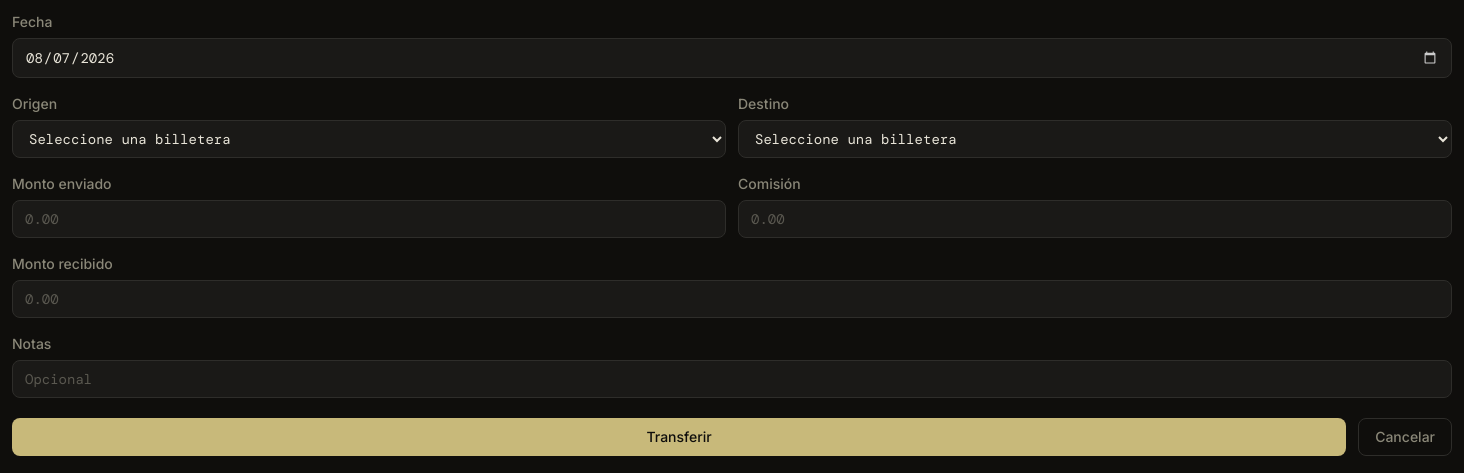
Scenario: TransferForm › pre-fills monto recibido as enviado minus comisión for stable/USD pairs
The image size is (1464, 473).
Select "Binance" in the dropdown labelled "Origen" at (369, 139), box left=12, top=120, right=726, bottom=158
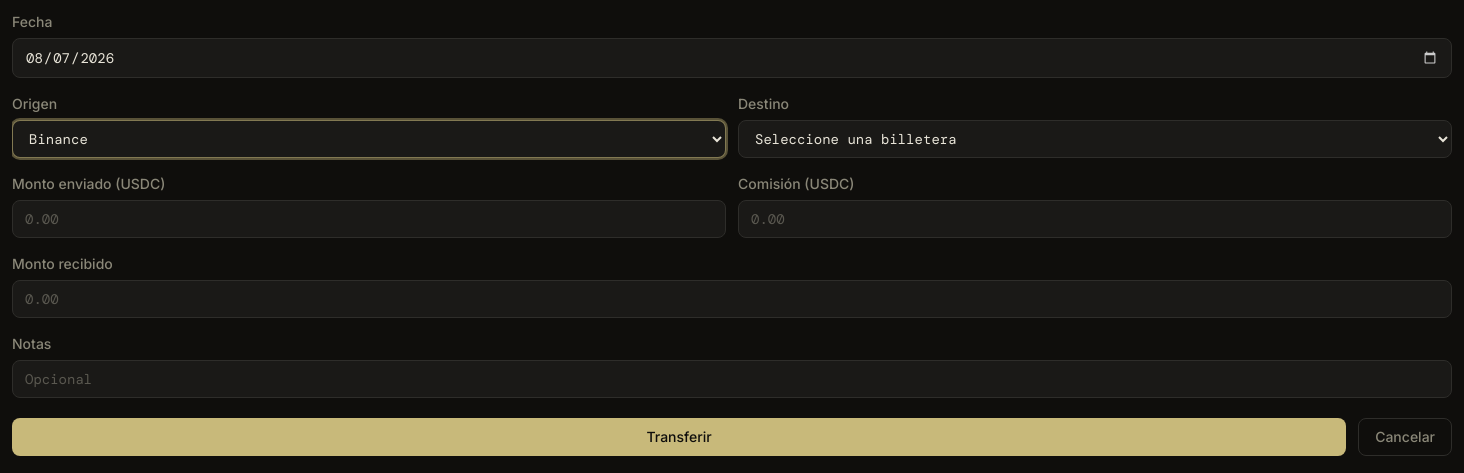
Select "Zinli" in the dropdown labelled "Destino" at (1095, 139), box left=738, top=120, right=1452, bottom=158
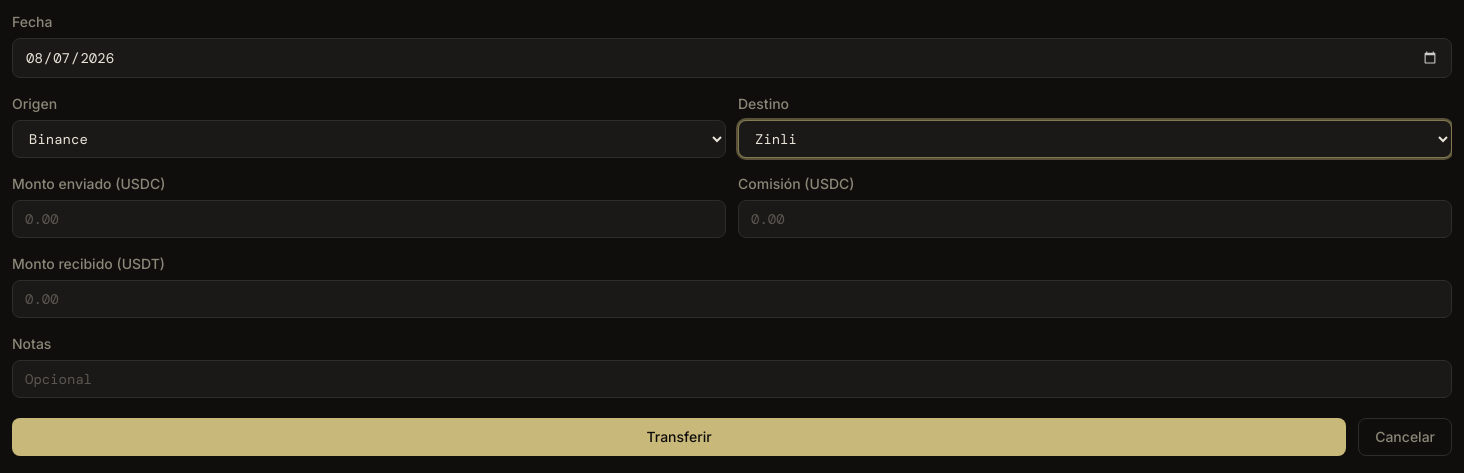
Type "70" into the number field labelled "Monto enviado (USDC)" at (369, 219), box left=12, top=200, right=726, bottom=238
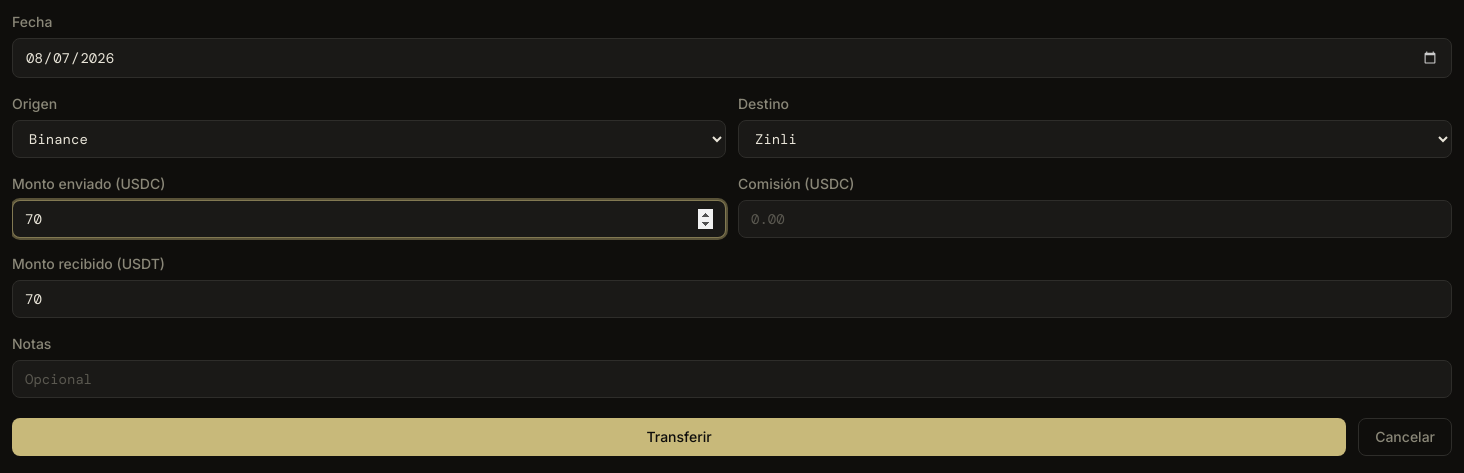
Type "5" into the number field labelled "Comisión (USDC)" at (1095, 219), box left=738, top=200, right=1452, bottom=238
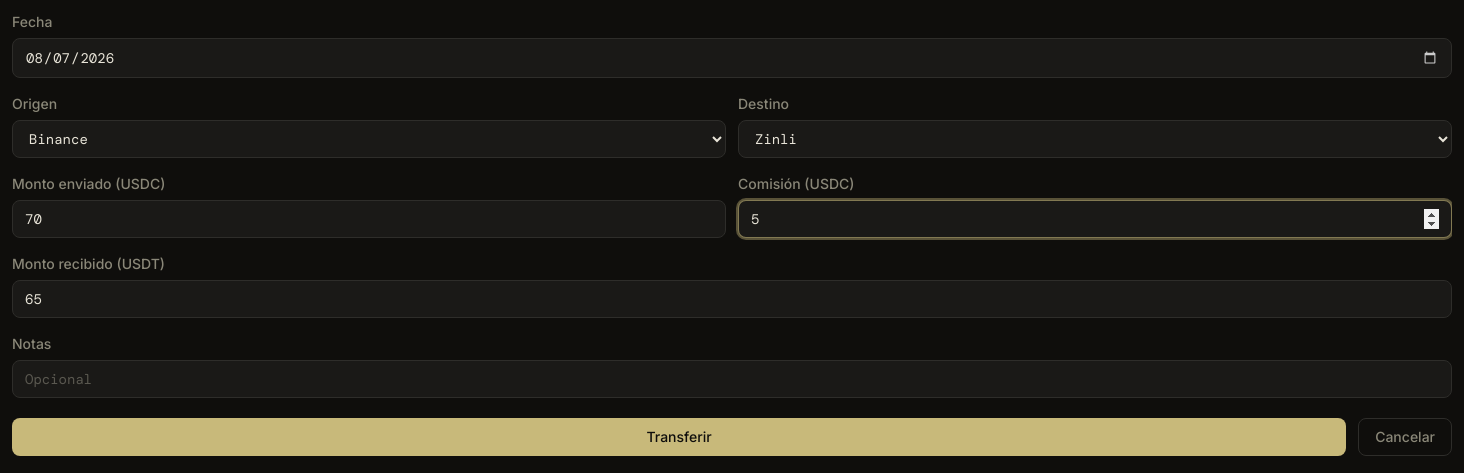
expect the number field labelled "Monto recibido (USDT)" holds "65": met, box left=12, top=280, right=1452, bottom=318
